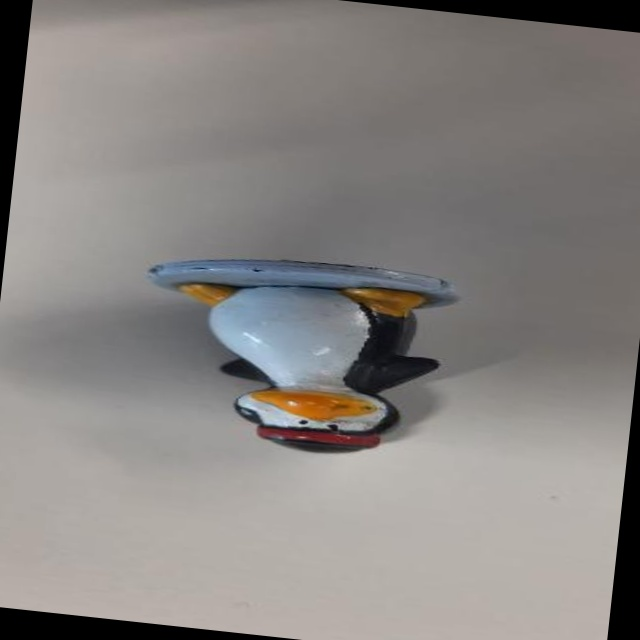Penguin: (125, 237, 470, 472)
